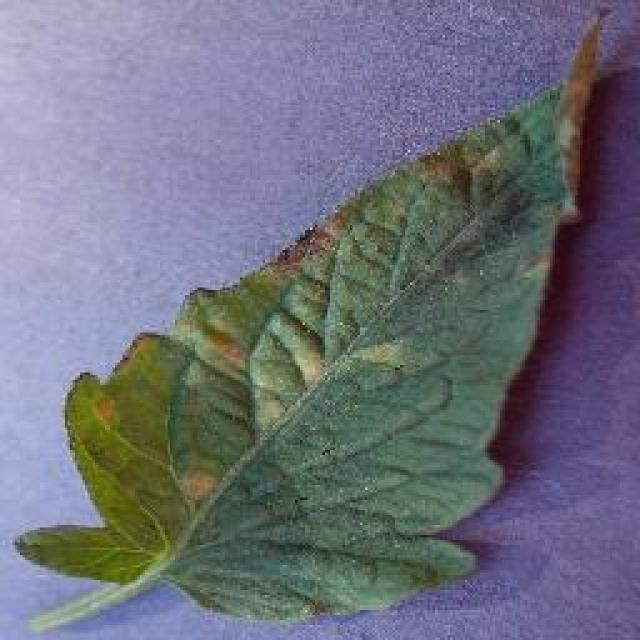Tom_Leaf_Mold: (86, 208, 372, 484), (412, 126, 528, 269)
